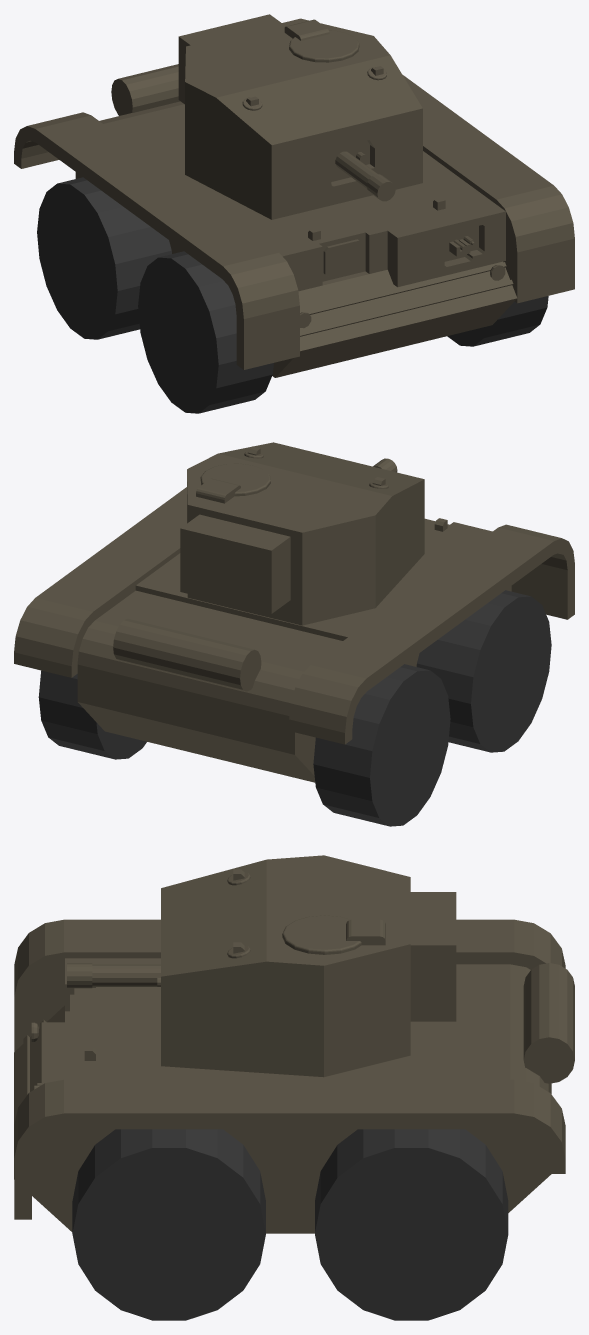
Rendered from CherchilBool.fbx.
3 views of the same model, one above another, from view 1: azimuth 30°, elevation 25°; view 2: azimuth 150°, elevation 25°; view 3: azimuth 270°, elevation 25° (orthographic). The views are drawn at different scales.
Visible parts, largest first — view 1: Cube, Cube.002, Cylinder.014, Cylinder.015, Cylinder, Cylinder.005; view 2: Cube, Cube.002, Cylinder.014, Cylinder.015, Cylinder.004; view 3: Cube, Cube.002, Cylinder.004, Cylinder, Cylinder.005.
Boxes of the visible parts, <box> form: Cube: <box>14,64,574,377</box>; Cube.002: <box>178,14,422,219</box>; Cylinder.014: <box>37,177,171,339</box>; Cylinder.015: <box>138,251,273,413</box>; Cylinder: <box>447,296,548,346</box>; Cylinder.005: <box>335,151,395,201</box>; Cube: <box>14,487,574,782</box>; Cube.002: <box>180,442,424,625</box>; Cylinder.014: <box>313,664,450,826</box>; Cylinder.015: <box>416,590,551,752</box>; Cylinder.004: <box>38,670,146,759</box>; Cube: <box>14,919,574,1233</box>; Cube.002: <box>157,855,456,1077</box>; Cylinder.004: <box>315,1129,508,1320</box>; Cylinder: <box>72,1129,265,1320</box>; Cylinder.005: <box>67,963,160,988</box>.
Size of the model in its own units: 3.39 by 4.14 by 2.62.
